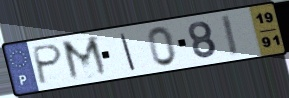0: (145, 24, 179, 68)
8: (187, 20, 219, 60)
I: (218, 13, 241, 59), (119, 32, 138, 72)
M: (60, 34, 112, 84)
P: (31, 43, 65, 87)
